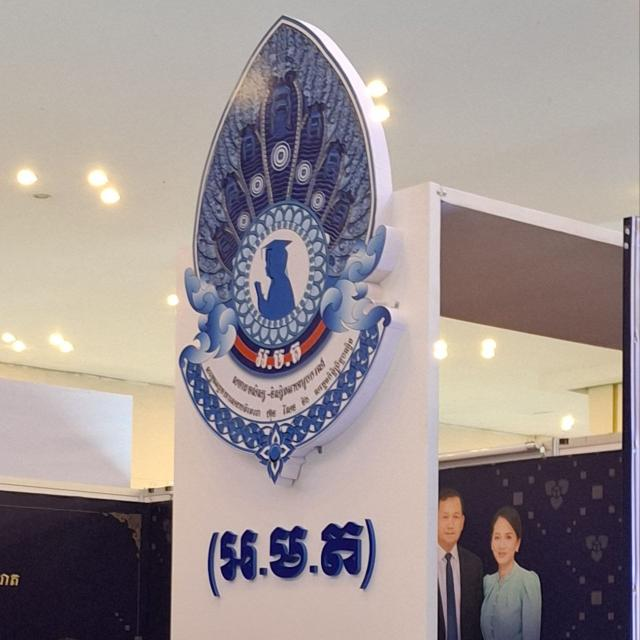Yolov11kh: (184, 495, 393, 618)
